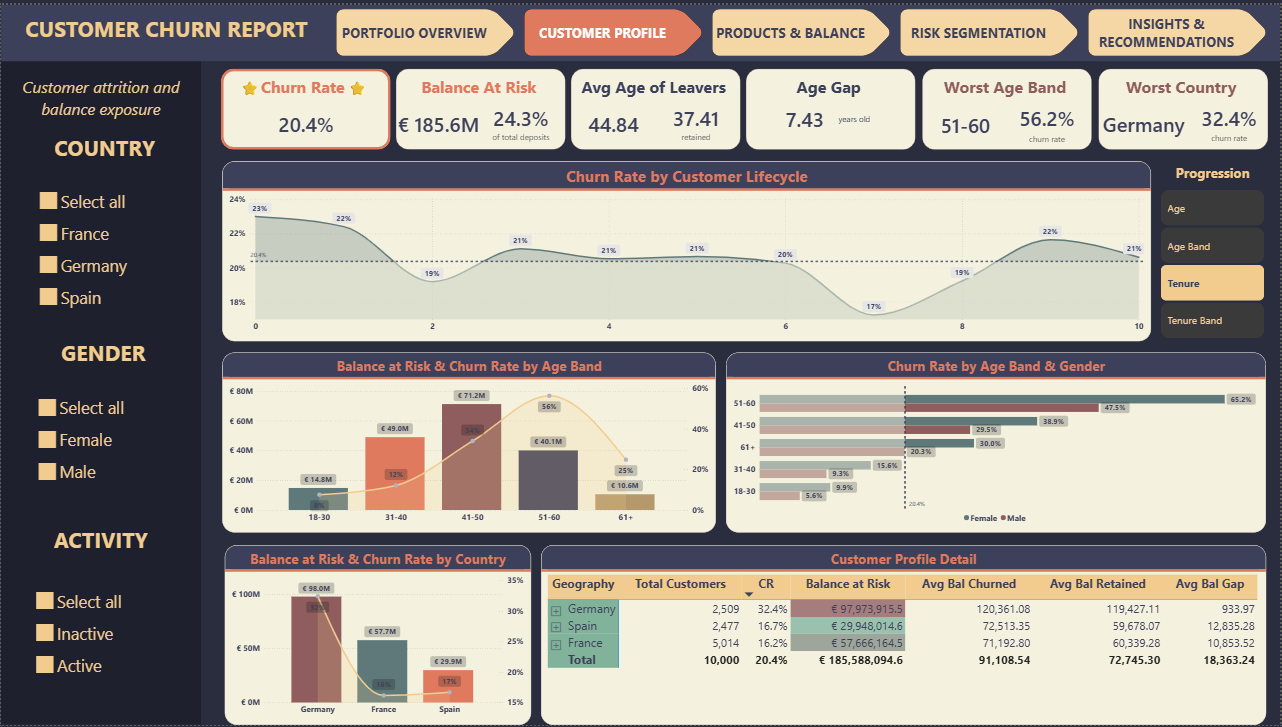

What the dashboard file says about the page in this screenshot:
{"tool":"powerbi","page":{"name":"CUSTOMER PROFILE","canvas":[2560,1440],"ordinal":1},"visuals":[{"type":"group","id":"g1","title":"Group 2","box":[0,78,400,1362],"z":0},{"type":"shape","box":[0,78,400,1362],"z":500,"group":"g1"},{"type":"shape","box":[0,0,2560,112.5],"z":1000},{"type":"shape","box":[1138.6,126.7,338.9,162],"z":1000,"group":"g6"},{"type":"shape","box":[788.7,127.2,338.9,161.5],"z":1000,"group":"g4"},{"type":"shape","box":[1488.4,127.2,338.8,162],"z":1000,"group":"g7"},{"type":"shape","box":[1841.3,127.2,338.9,162],"z":1000,"group":"g8"},{"type":"shape","box":[2192.6,127.2,338.9,162],"z":1000,"group":"g9"},{"type":"shape","box":[438.3,127.9,338.9,161.5],"z":1000,"group":"g10"},{"type":"pageNavigator","box":[670,8.3,1866.7,95],"z":2000},{"type":"lineChart","title":"Churn Rate by Customer Lifecycle","fields":{"Category":["Fact_Customer.Tenure"],"Y":["_Measures.Churn Rate %"]},"box":[442.5,312.5,1857.5,360],"z":2000,"group":"g5"},{"type":"group","id":"g2","title":"Group 5","box":[0,12.5,662.5,90],"z":3000},{"type":"textbox","box":[67.5,250,280,87.5],"z":3000,"group":"g1"},{"type":"textbox","box":[2315.5,312.5,217,52.9],"z":3000,"group":"g5"},{"type":"group","id":"g3","title":"Group 4","box":[431.7,126.7,2116,165.4],"z":4000},{"type":"group","id":"g4","title":"Group 1","box":[782.1,127.2,345.7,161.5],"z":5000,"group":"g3"},{"type":"textbox","box":[1132,136.3,345.7,74.1],"z":5000,"group":"g6"},{"type":"textbox","box":[782.1,136.8,345.7,73.9],"z":5000,"group":"g4"},{"type":"textbox","box":[1481.8,136.8,345.6,74.1],"z":5000,"group":"g7"},{"type":"textbox","box":[1834.7,136.8,345.7,74.1],"z":5000,"group":"g8"},{"type":"textbox","box":[2186,136.8,345.7,74.1],"z":5000,"group":"g9"},{"type":"textbox","box":[431.7,137.5,345.7,73.9],"z":5000,"group":"g10"},{"type":"group","id":"g5","title":"Group 7","box":[442.5,312.5,2090,360],"z":5000},{"type":"slicer","fields":{"Values":["Dim_Geography.Geography"]},"box":[65,360,280,265],"z":5000,"group":"g1"},{"type":"group","id":"g6","title":"Group 1","box":[1132,126.7,346,162],"z":6000,"group":"g13"},{"type":"group","id":"g7","title":"Group 1","box":[1481.8,127.2,345.6,162],"z":6000,"group":"g12"},{"type":"group","id":"g8","title":"Group 1","box":[1834.7,127.2,345.7,163.7],"z":6000,"group":"g15"},{"type":"group","id":"g9","title":"Group 1","box":[2186,127.2,361.6,162],"z":6000,"group":"g14"},{"type":"group","id":"g10","title":"Group 1","box":[431.7,127.9,346.7,164.2],"z":6000,"group":"g11"},{"type":"group","id":"g11","title":"Group 3","box":[431.7,127.9,346.7,164.2],"z":6000,"group":"g3"},{"type":"textbox","box":[1670,213.3,100,72.5],"z":6000},{"type":"clusteredBarChart","title":"Churn Rate by Age Band & Gender","fields":{"Category":["Dim_AgeBand.Age_Band"],"Series":["Dim_Gender.Gender"],"Y":["_Measures.Churn Rate %"]},"box":[1450,695,1080,360],"z":7000},{"type":"textbox","box":[67.5,660,275,87.5],"z":8000,"group":"g1"},{"type":"lineClusteredColumnComboChart","title":"Balance at Risk & Churn Rate by Age Band","fields":{"Category":["Dim_AgeBand.Age_Band"],"Y":["_Measures.Balance at Risk"],"Y2":["_Measures.Churn Rate %"]},"box":[442.5,695,987.5,360],"z":8000},{"type":"slicer","fields":{"Values":["Dim_Gender.Gender"]},"box":[62.5,772.5,275,205],"z":9000,"group":"g1"},{"type":"lineClusteredColumnComboChart","title":"Balance at Risk & Churn Rate by Country","fields":{"Category":["Dim_Geography.Geography"],"Y":["_Measures.Balance at Risk"],"Y2":["_Measures.Churn Rate %"]},"box":[447.5,1080,612.5,360],"z":9000},{"type":"pivotTable","title":"Customer Profile Detail","fields":{"Rows":["Dim_Geography.Geography","Dim_AgeBand.Age_Band"],"Values":["_Measures.Total Customers","_Measures.Churn Rate %","_Measures.Balance at Risk","_Measures.Avg Balance Churned","_Measures.Avg Balance Retained","_Measures.Avg Balance Gap"]},"box":[1080,1080,1450,360],"z":10000},{"type":"textbox","box":[0,137.5,400,130],"z":11000,"group":"g1"},{"type":"textbox","box":[0,12.5,662.5,90],"z":12000,"group":"g2"},{"type":"group","id":"g12","title":"Group 3","box":[1481.8,127.2,345.6,162],"z":12000,"group":"g3"},{"type":"group","id":"g13","title":"Group 3","box":[1132,126.7,346,162],"z":13000,"group":"g3"},{"type":"textbox","box":[60,1035,280,87],"z":13000,"group":"g1"},{"type":"group","id":"g14","title":"Group 3","box":[2186,127.2,361.6,162],"z":14000,"group":"g3"},{"type":"slicer","fields":{"Values":["Dim_ActivityStatus.Activity_Status"]},"box":[57.5,1160,280,197.5],"z":15000,"group":"g1"},{"type":"group","id":"g15","title":"Group 3","box":[1834.7,127.2,345.7,163.7],"z":16000,"group":"g3"},{"type":"cardVisual","fields":{"Data":["_Measures.Age Gap"]},"box":[1490.6,165.3,230,123.3],"z":16000,"group":"g7"},{"type":"cardVisual","fields":{"Data":["_Measures.Worst Geography","_Measures.Worst Geography Value"]},"box":[2194.3,183.6,353.3,105],"z":16000,"group":"g9"},{"type":"cardVisual","fields":{"Data":["_Measures.Churn Rate %"]},"box":[442.4,184.1,336,108],"z":16000,"group":"g10"},{"type":"cardVisual","fields":{"Data":["_Measures.Balance at Risk","_Measures.Balance at Risk %"]},"box":[786.1,184.9,340,102],"z":16000,"group":"g4"},{"type":"cardVisual","fields":{"Data":["_Measures.Worst Age Band","_Measures.Worst Age Band Value"]},"box":[1841.4,184.9,336,106],"z":16000,"group":"g8"},{"type":"cardVisual","fields":{"Data":["_Measures.Avg Age Churned","_Measures.Avg Age Retained"]},"box":[1138,185.4,340,102],"z":16000,"group":"g6"},{"type":"advancedSlicerVisual","fields":{"Values":["Progression.Progression"]},"box":[2315.5,365.4,217,307.1],"z":18000,"group":"g5"}]}

Visuals, with their boxes in screenshot pixels (x1, y1, x2, y2), scaled from the page's 2560x1440 canvas onto the 1282x727 screenshot:
"Group 2" group: left=0, top=39, right=200, bottom=726
shape: left=0, top=39, right=200, bottom=726
shape: left=0, top=0, right=1281, bottom=57
shape: left=570, top=64, right=740, bottom=146
shape: left=395, top=64, right=565, bottom=146
shape: left=745, top=64, right=915, bottom=146
shape: left=922, top=64, right=1092, bottom=146
shape: left=1098, top=64, right=1268, bottom=146
shape: left=219, top=65, right=389, bottom=146
pageNavigator: left=336, top=4, right=1270, bottom=52
"Churn Rate by Customer Lifecycle" lineChart: left=222, top=158, right=1152, bottom=340
"Group 5" group: left=0, top=6, right=332, bottom=52
textbox: left=34, top=126, right=174, bottom=170
textbox: left=1160, top=158, right=1268, bottom=184
"Group 4" group: left=216, top=64, right=1276, bottom=147
"Group 1" group: left=392, top=64, right=565, bottom=146
textbox: left=567, top=69, right=740, bottom=106
textbox: left=392, top=69, right=565, bottom=106
textbox: left=742, top=69, right=915, bottom=106
textbox: left=919, top=69, right=1092, bottom=106
textbox: left=1095, top=69, right=1268, bottom=106
textbox: left=216, top=69, right=389, bottom=107
"Group 7" group: left=222, top=158, right=1268, bottom=340
slicer - Dim_Geography.Geography: left=33, top=182, right=173, bottom=316
"Group 1" group: left=567, top=64, right=740, bottom=146
"Group 1" group: left=742, top=64, right=915, bottom=146
"Group 1" group: left=919, top=64, right=1092, bottom=147
"Group 1" group: left=1095, top=64, right=1276, bottom=146
"Group 1" group: left=216, top=65, right=390, bottom=147
"Group 3" group: left=216, top=65, right=390, bottom=147
textbox: left=836, top=108, right=886, bottom=144
"Churn Rate by Age Band & Gender" clusteredBarChart: left=726, top=351, right=1267, bottom=533
textbox: left=34, top=333, right=172, bottom=377
"Balance at Risk & Churn Rate by Age Band" lineClusteredColumnComboChart: left=222, top=351, right=716, bottom=533
slicer - Dim_Gender.Gender: left=31, top=390, right=169, bottom=494
"Balance at Risk & Churn Rate by Country" lineClusteredColumnComboChart: left=224, top=545, right=531, bottom=726
"Customer Profile Detail" pivotTable: left=541, top=545, right=1267, bottom=726
textbox: left=0, top=69, right=200, bottom=135
textbox: left=0, top=6, right=332, bottom=52
"Group 3" group: left=742, top=64, right=915, bottom=146
"Group 3" group: left=567, top=64, right=740, bottom=146
textbox: left=30, top=523, right=170, bottom=566
"Group 3" group: left=1095, top=64, right=1276, bottom=146
slicer - Dim_ActivityStatus.Activity_Status: left=29, top=586, right=169, bottom=685
"Group 3" group: left=919, top=64, right=1092, bottom=147
cardVisual - _Measures.Age Gap: left=746, top=83, right=862, bottom=146
cardVisual - _Measures.Worst Geography x _Measures.Worst Geography Value: left=1099, top=93, right=1276, bottom=146
cardVisual - _Measures.Churn Rate %: left=222, top=93, right=390, bottom=147
cardVisual - _Measures.Balance at Risk x _Measures.Balance at Risk %: left=394, top=93, right=564, bottom=145
cardVisual - _Measures.Worst Age Band x _Measures.Worst Age Band Value: left=922, top=93, right=1090, bottom=147
cardVisual - _Measures.Avg Age Churned x _Measures.Avg Age Retained: left=570, top=94, right=740, bottom=145
advancedSlicerVisual - Progression.Progression: left=1160, top=184, right=1268, bottom=340
